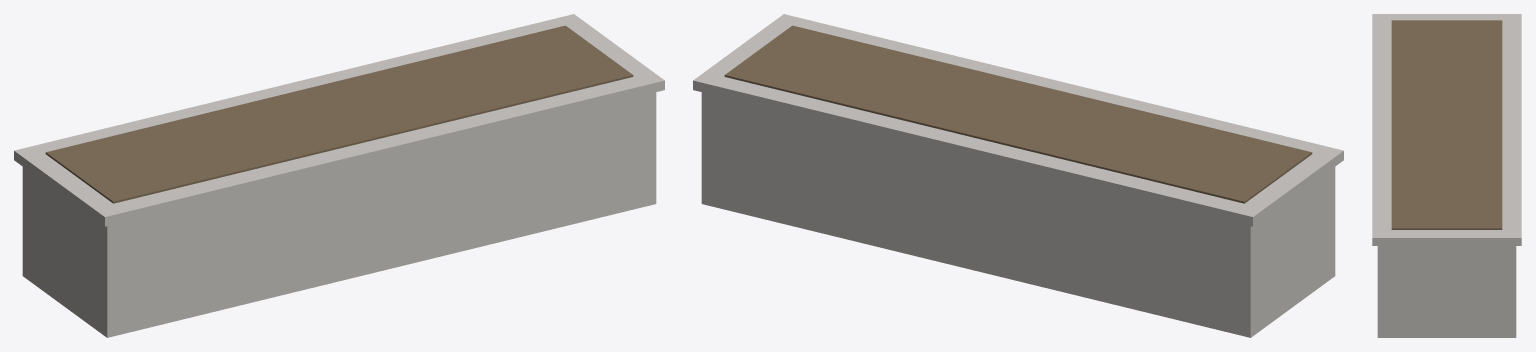
Rendered from planter_long.glb.
3 renders of one model, left to right at view 1: azimuth 30°, elevation 25°; view 2: azimuth 150°, elevation 25°; view 3: azimuth 270°, elevation 25°, orthographic. The views are drawn at different scales.
Visible parts, largest first — view 1: planter_long; view 2: planter_long; view 3: planter_long.
Boxes of the visible parts, x1=… form: planter_long: x1=14, y1=14, x2=664, y2=337; planter_long: x1=693, y1=14, x2=1343, y2=337; planter_long: x1=1372, y1=14, x2=1521, y2=337.
Size of the model in its own units: 3.06 by 0.66 by 0.86.
